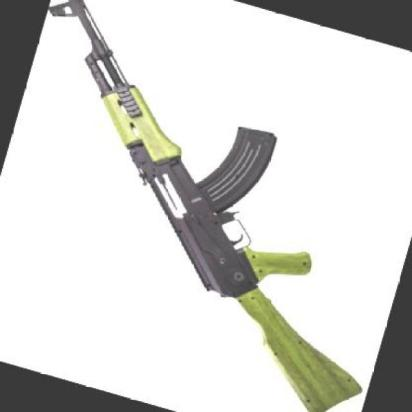Gun: (44, 0, 364, 412)
